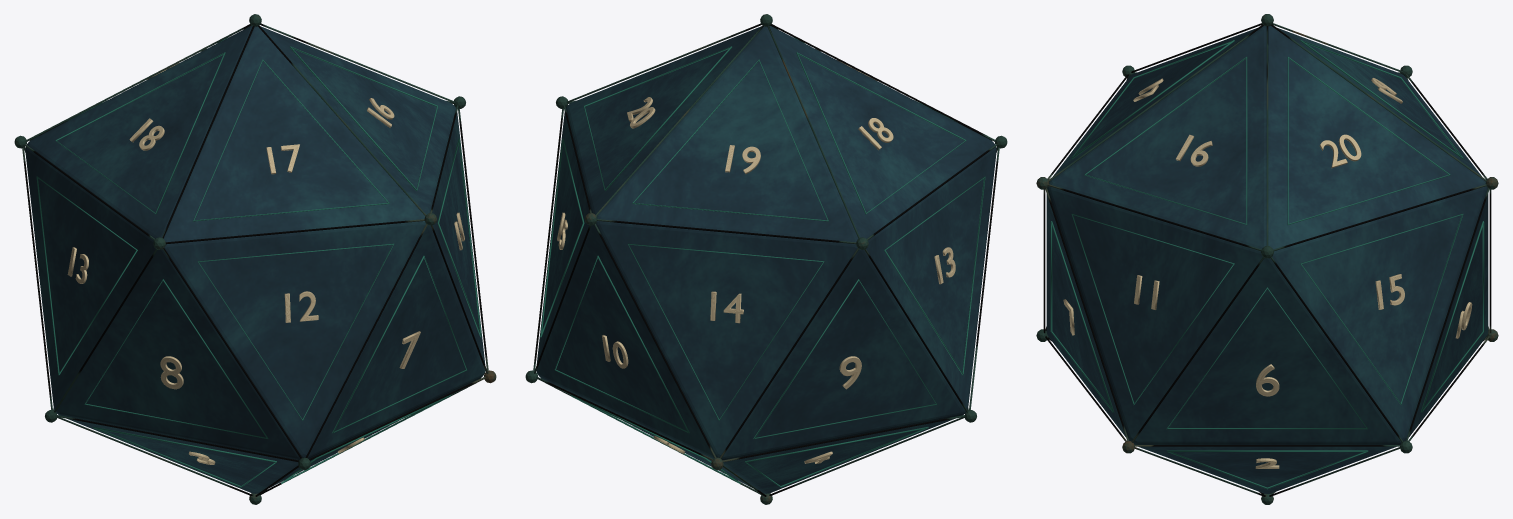
The model's file is D20_20面体骰子_baked.glb.
The picture shows the model from 3 angles, left to right: view 1: azimuth 30°, elevation 25°; view 2: azimuth 150°, elevation 25°; view 3: azimuth 270°, elevation 25°; orthographic projection.
Parts seen in each view (by area): view 1: D20_Body_20_Faces, D20_Aged_Bronze_Edges, D20_Occult_Face_Borders, D20_Vertex_Studs, Face_08_Number_8; view 2: D20_Body_20_Faces, D20_Aged_Bronze_Edges, D20_Occult_Face_Borders, D20_Vertex_Studs; view 3: D20_Body_20_Faces, D20_Aged_Bronze_Edges, D20_Occult_Face_Borders, D20_Vertex_Studs, Face_20_Number_20.
Part boxes in pixels (x1,y1,x2,y2): D20_Body_20_Faces: (25,26,485,493); D20_Aged_Bronze_Edges: (22,23,488,496); D20_Occult_Face_Borders: (36,37,481,487); D20_Vertex_Studs: (14,14,496,504); Face_08_Number_8: (160,356,183,389); D20_Body_20_Faces: (536,26,996,493); D20_Aged_Bronze_Edges: (533,23,999,496); D20_Occult_Face_Borders: (540,37,985,487); D20_Vertex_Studs: (525,14,1007,504); D20_Body_20_Faces: (1046,25,1488,493); D20_Aged_Bronze_Edges: (1043,23,1491,496); D20_Occult_Face_Borders: (1050,40,1484,489); D20_Vertex_Studs: (1036,14,1498,504); Face_20_Number_20: (1319,134,1361,168).
Bounding box in the file's own units: 5.58 × 6.23 × 5.32.
Materials: 24 (23 with a texture image).
